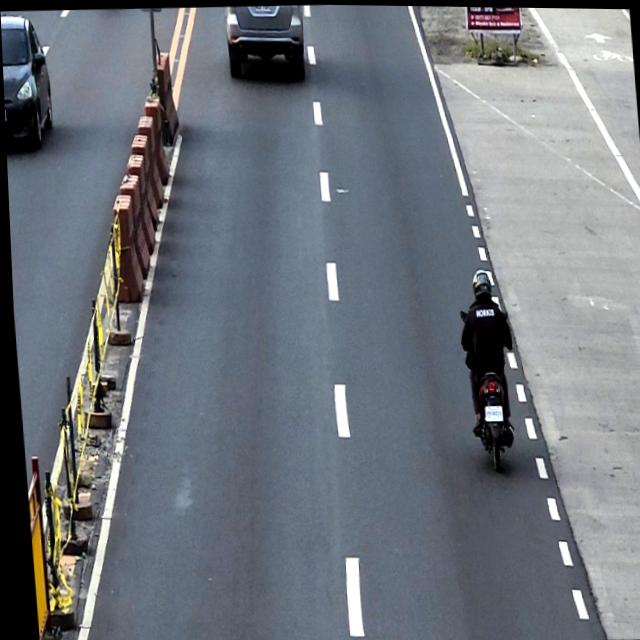Car: (0, 13, 54, 155), (223, 3, 306, 82)
License-Plate: (480, 403, 499, 421), (254, 4, 271, 11)
Motorcycle: (455, 303, 516, 471)
